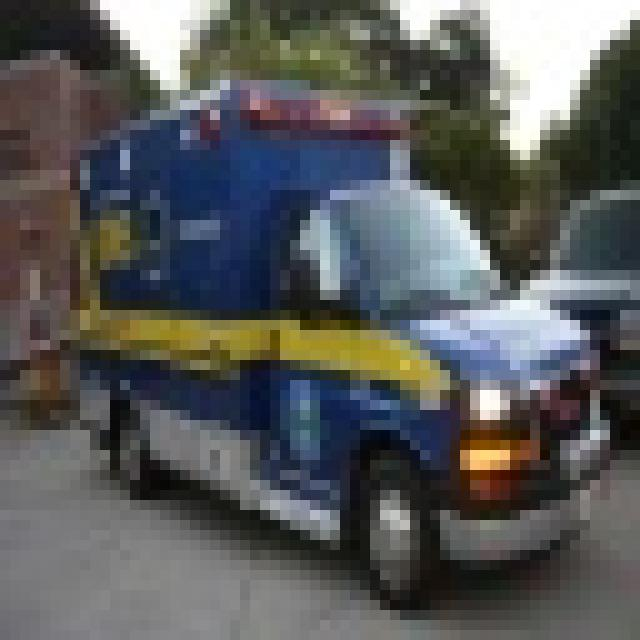Ambulance: (60, 70, 610, 600)
